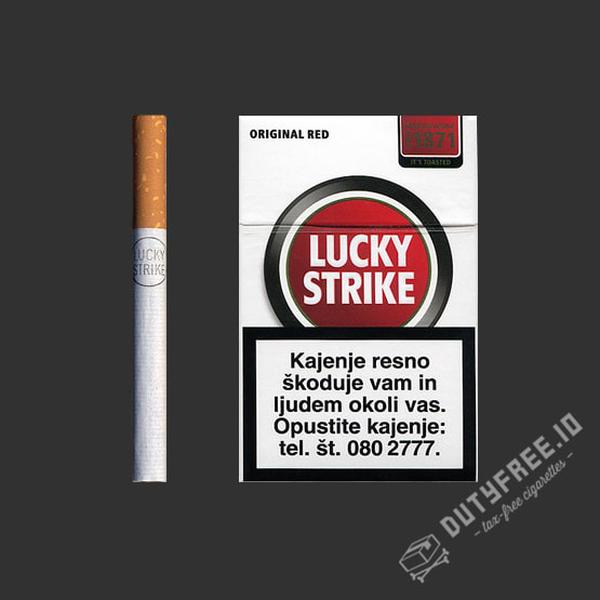lucky_strike_red: (235, 117, 478, 479)
